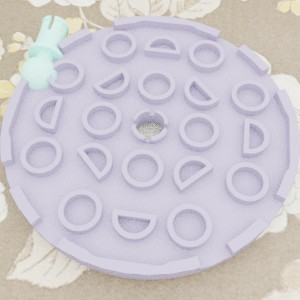lego: (0, 15, 300, 279), (20, 15, 69, 93)
